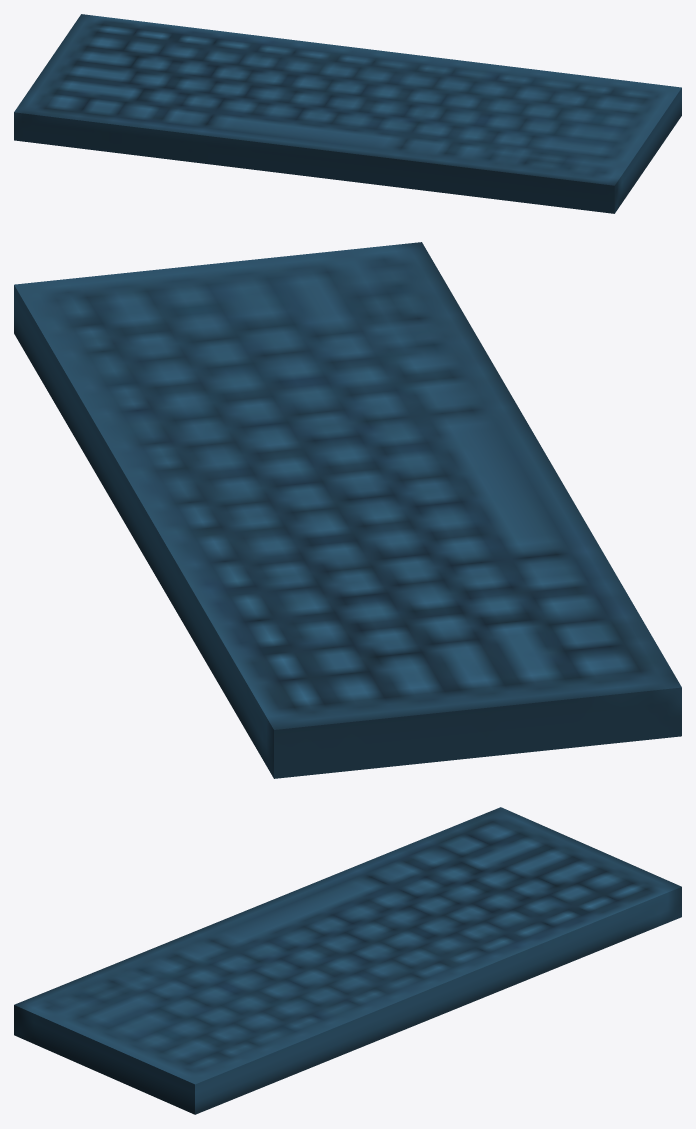
File: Tx_prop_keyboard_4.fbx
The picture shows the model from 3 angles, top to bottom: view 1: azimuth 30°, elevation 25°; view 2: azimuth 150°, elevation 25°; view 3: azimuth 270°, elevation 25°; orthographic projection. The views are drawn at different scales.
Parts seen in each view (by area): view 1: Tx_prop_keyboard_9; view 2: Tx_prop_keyboard_9; view 3: Tx_prop_keyboard_9.
Part boxes in pixels (x1,y1,x2,y2): Tx_prop_keyboard_9: (14,14,681,213); Tx_prop_keyboard_9: (14,242,681,778); Tx_prop_keyboard_9: (14,807,681,1114).
Bounding box in the file's own units: 2.23 × 0.1138 × 2.27.
Materials: 1 (1 with a texture image).
